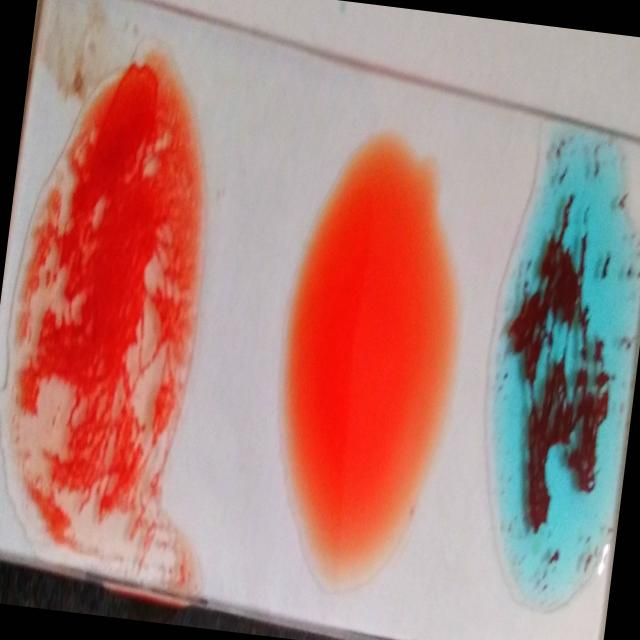A: (455, 130, 640, 603)
D: (0, 41, 221, 561)
